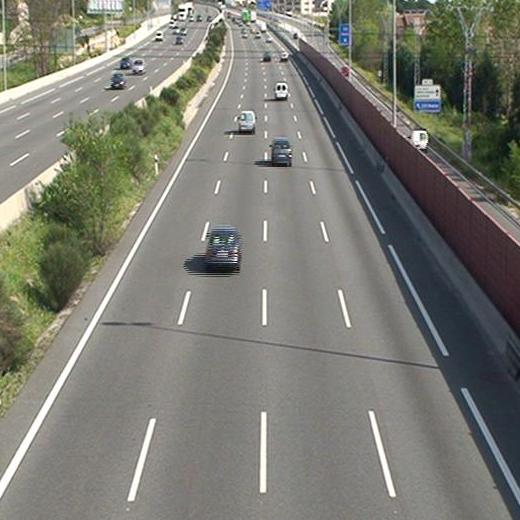car: (207, 227, 238, 264), (270, 138, 292, 164)
van: (237, 110, 255, 131), (274, 82, 288, 100)
